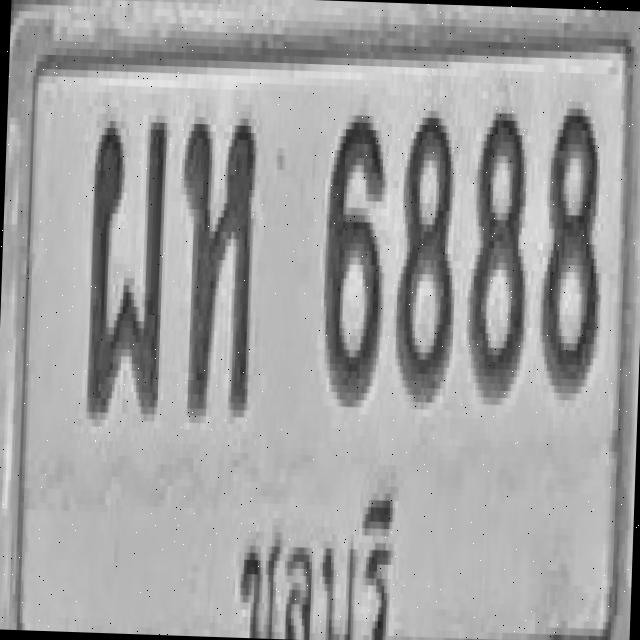37PhorPhueng: (84, 109, 168, 417)
50HorHeep: (174, 109, 258, 417)
6: (320, 107, 387, 400)
8: (392, 106, 459, 399), (537, 100, 604, 393), (467, 105, 531, 398)
Chonburi: (226, 460, 400, 640)
